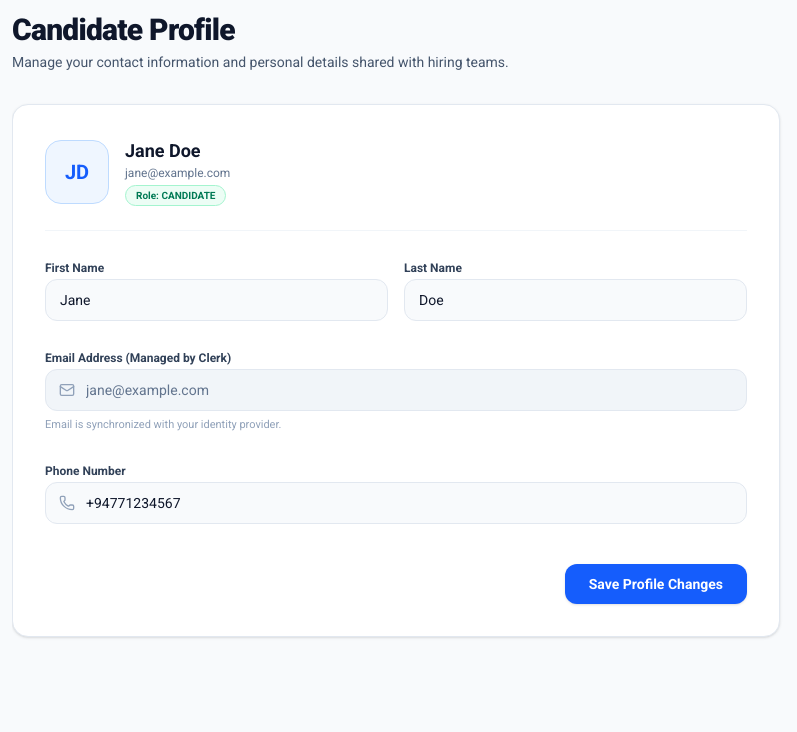
Test: CandidateProfilePage - Form Validation and Error Handling › API integration & state transitions › successfully submits updated profile and displays success alert
This screenshot has width=797, height=732.
Replace the text in the field showing "Jane" below "First Name" with "Janet" at [216, 300], box [45,279,388,321]
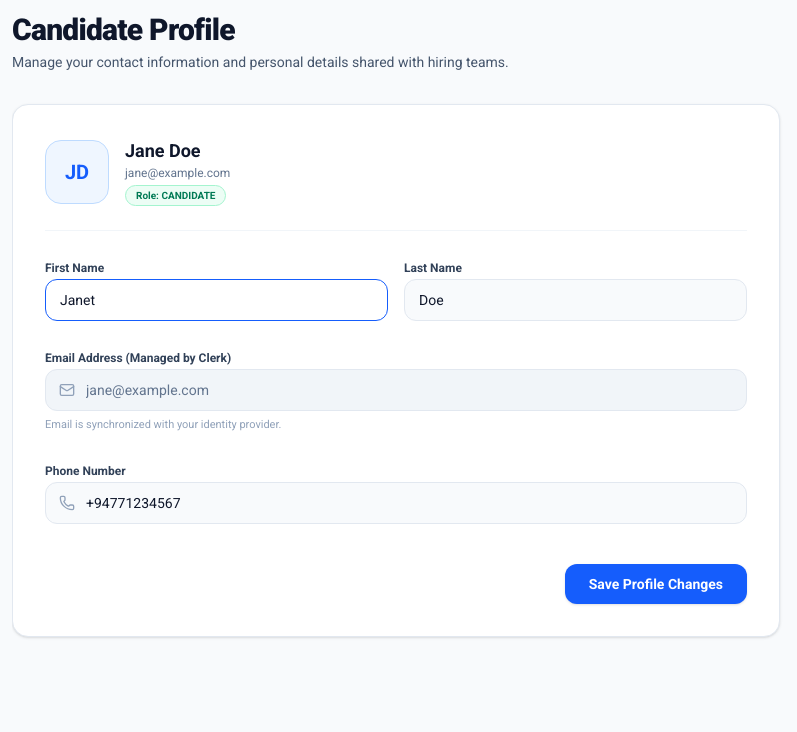
Click the button "Save Profile Changes" at [656, 584], box [565,564,747,604]
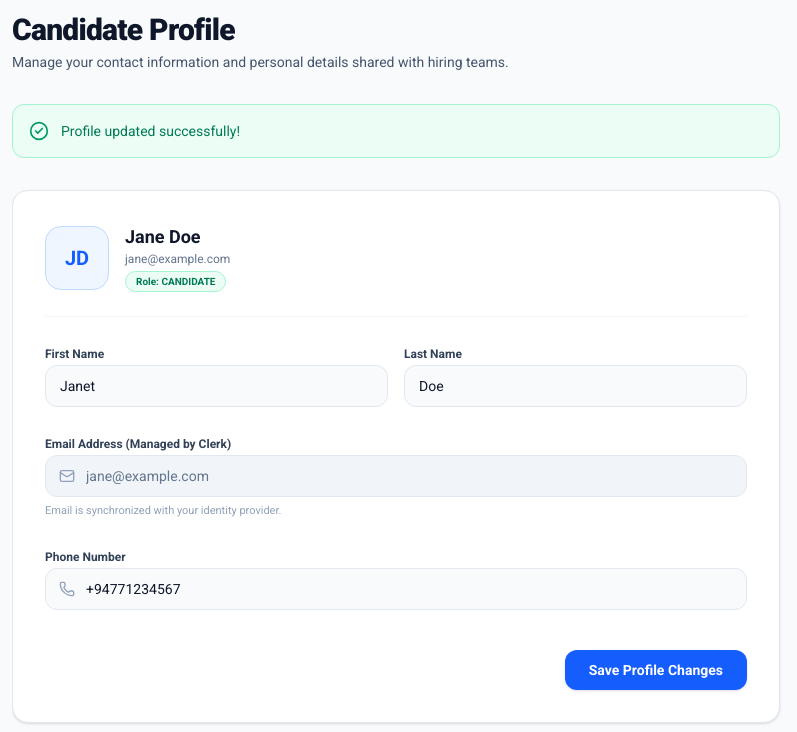
Result: the text "Profile updated successfully!" is shown at [61,121,240,141]
